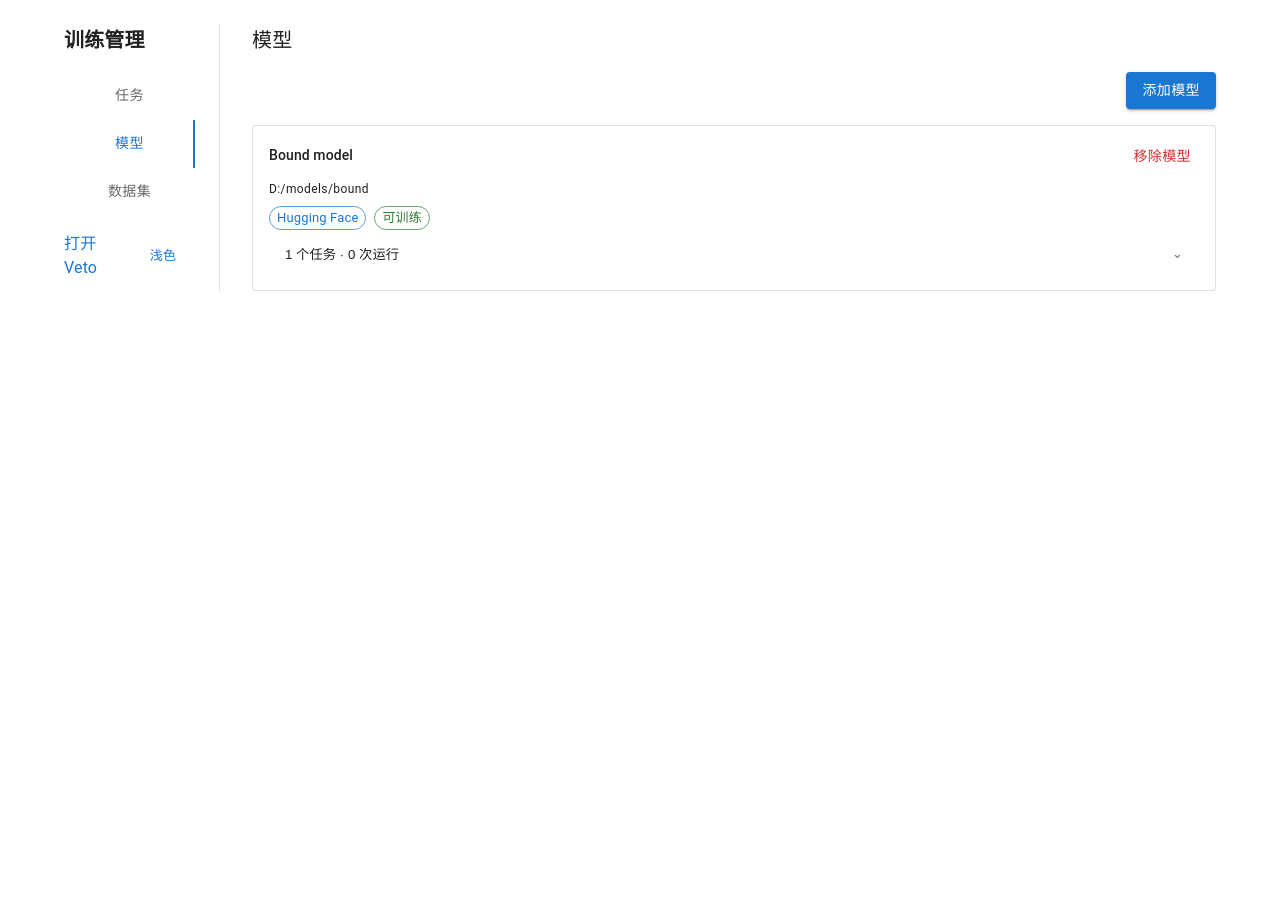
Scenario: bound tasks warn but do not block permanent model removal
Click the button "移除模型": {"x": 1162, "y": 156} [1125,138,1199,174]
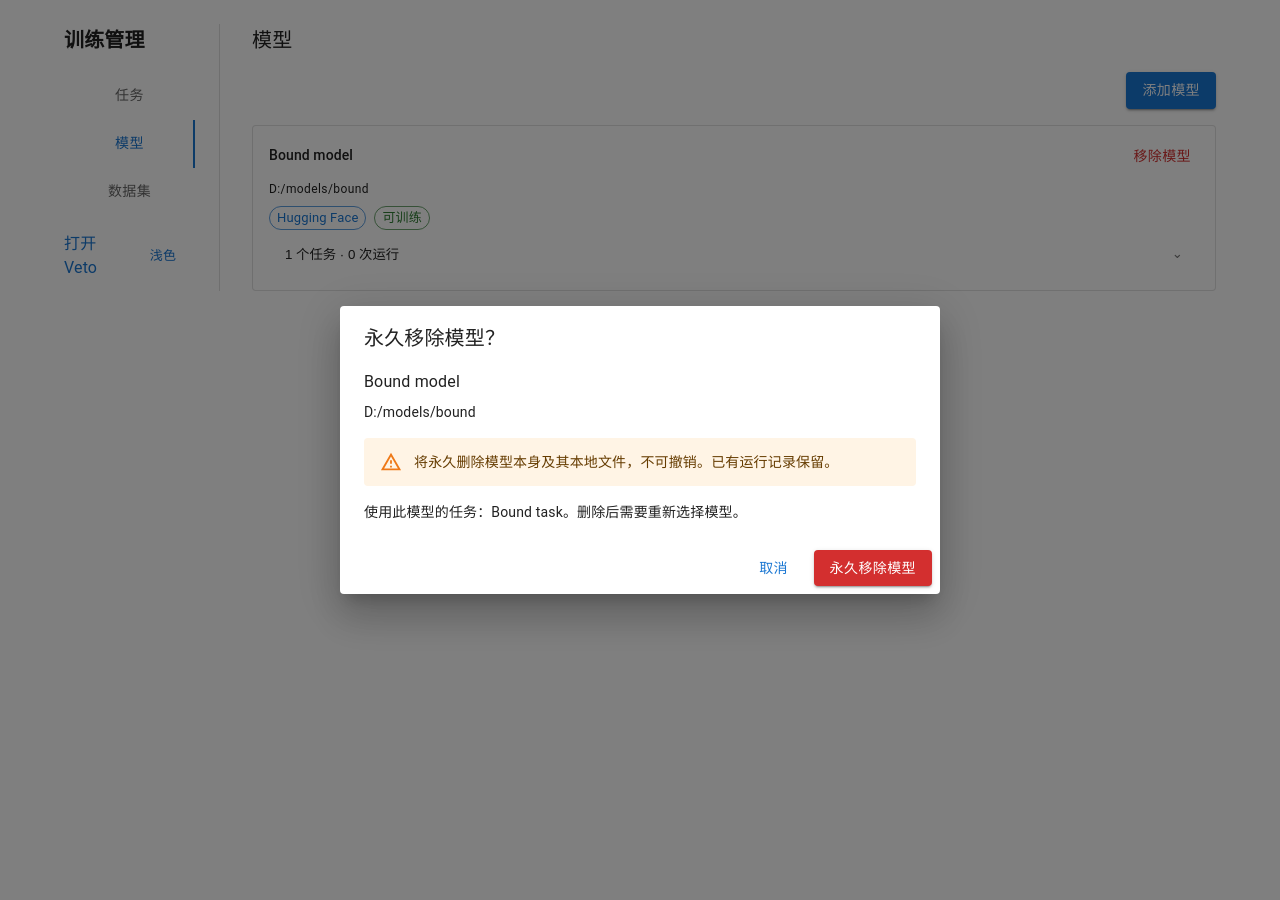
Check: the text "使用此模型的任务：Bound task。删除后需要重新选择模型。" is shown, box [364,504,747,520]
Click the button "永久移除模型": {"x": 873, "y": 568} [814,550,932,586]
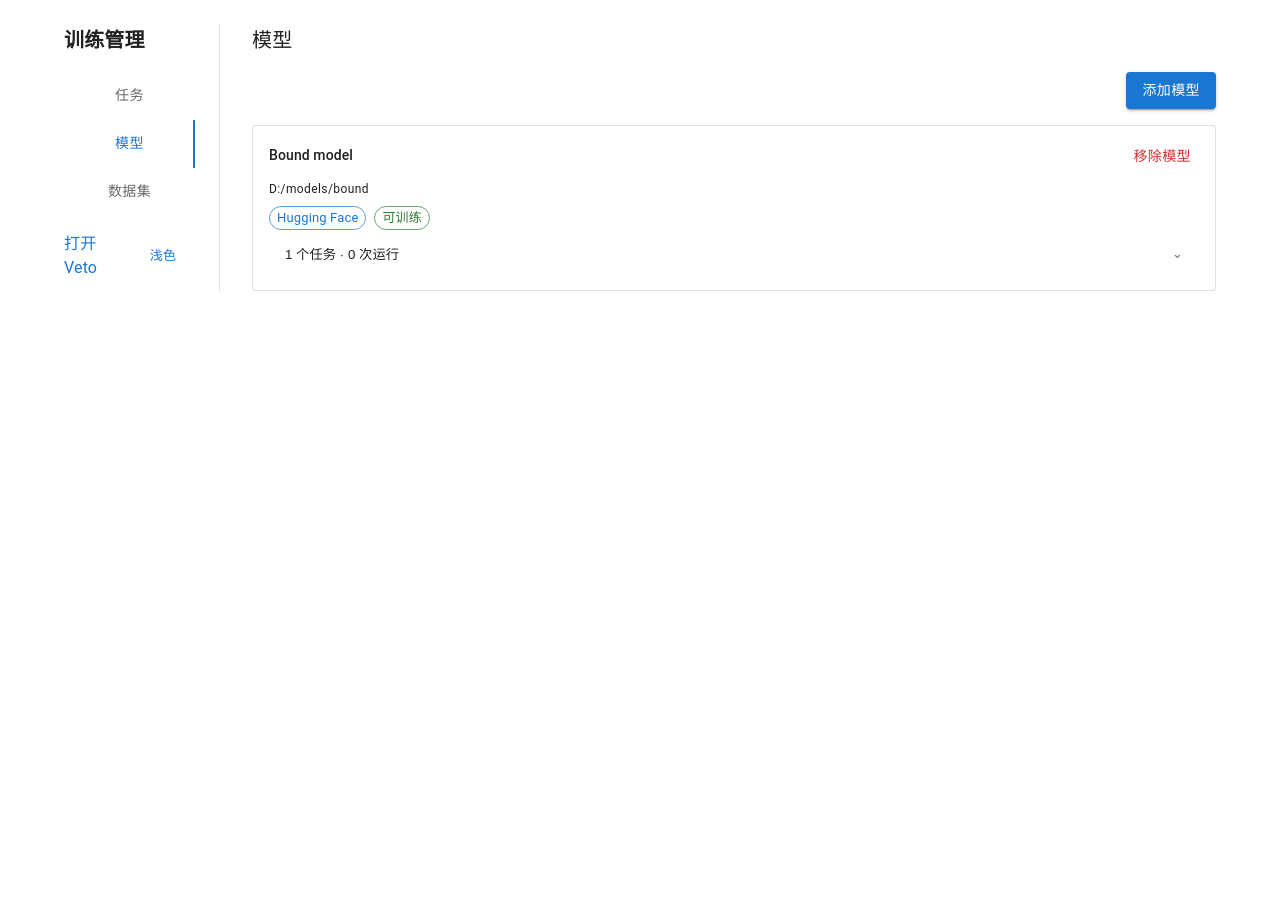
Check: the dialog is gone
